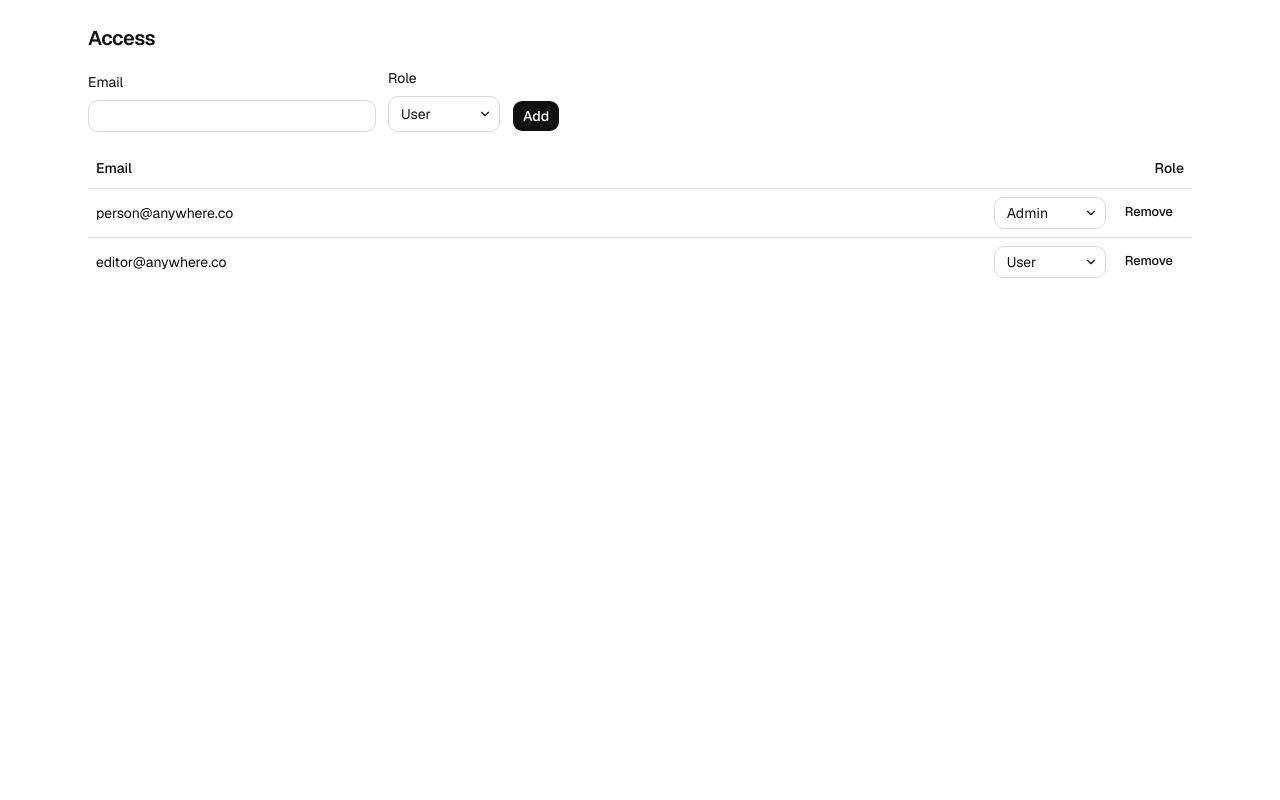
Test: access screen › asks before removing someone and does nothing on cancel
Click the button "Remove" in the row of "editor@anywhere.co": (1149, 262) [1114, 248, 1184, 276]
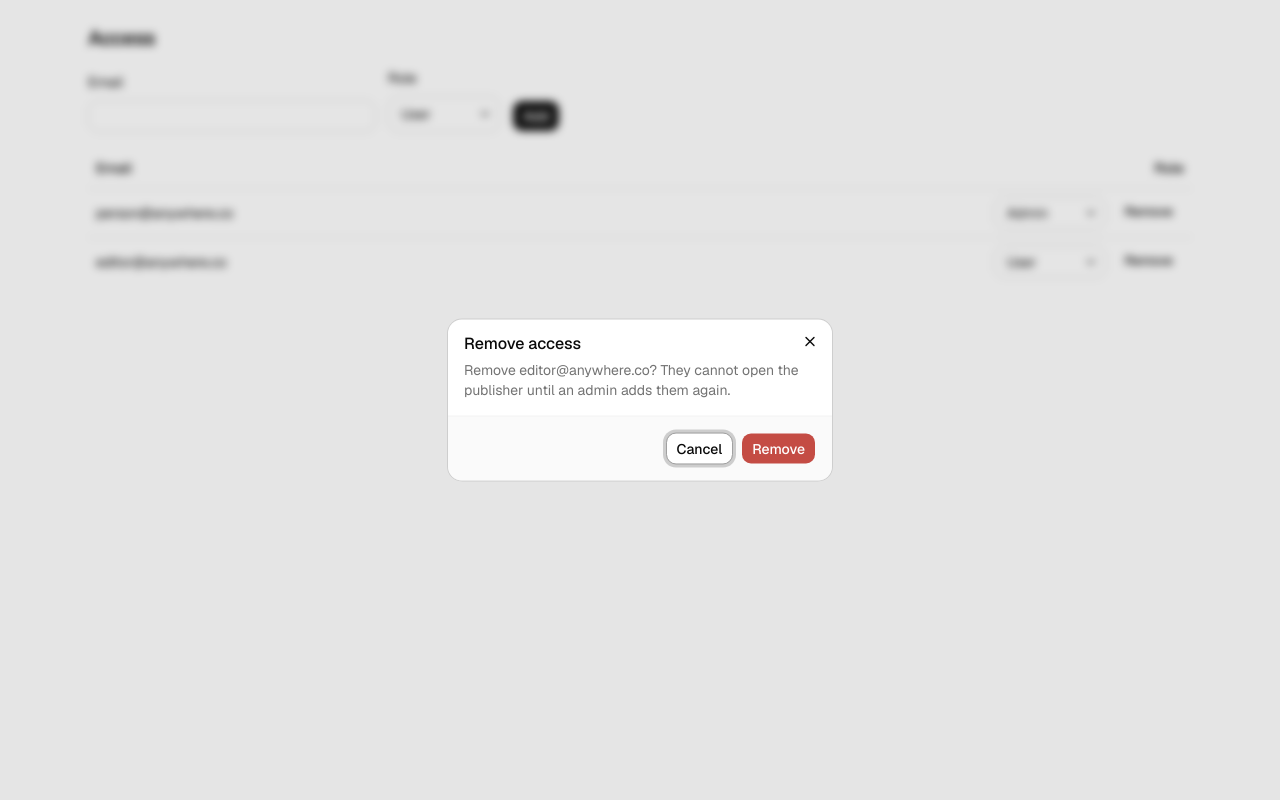
expect the dialog "Remove access" shows "editor@anywhere.co": met, box [464, 360, 799, 398]
Click the button "Cancel": (699, 448) [666, 432, 733, 464]
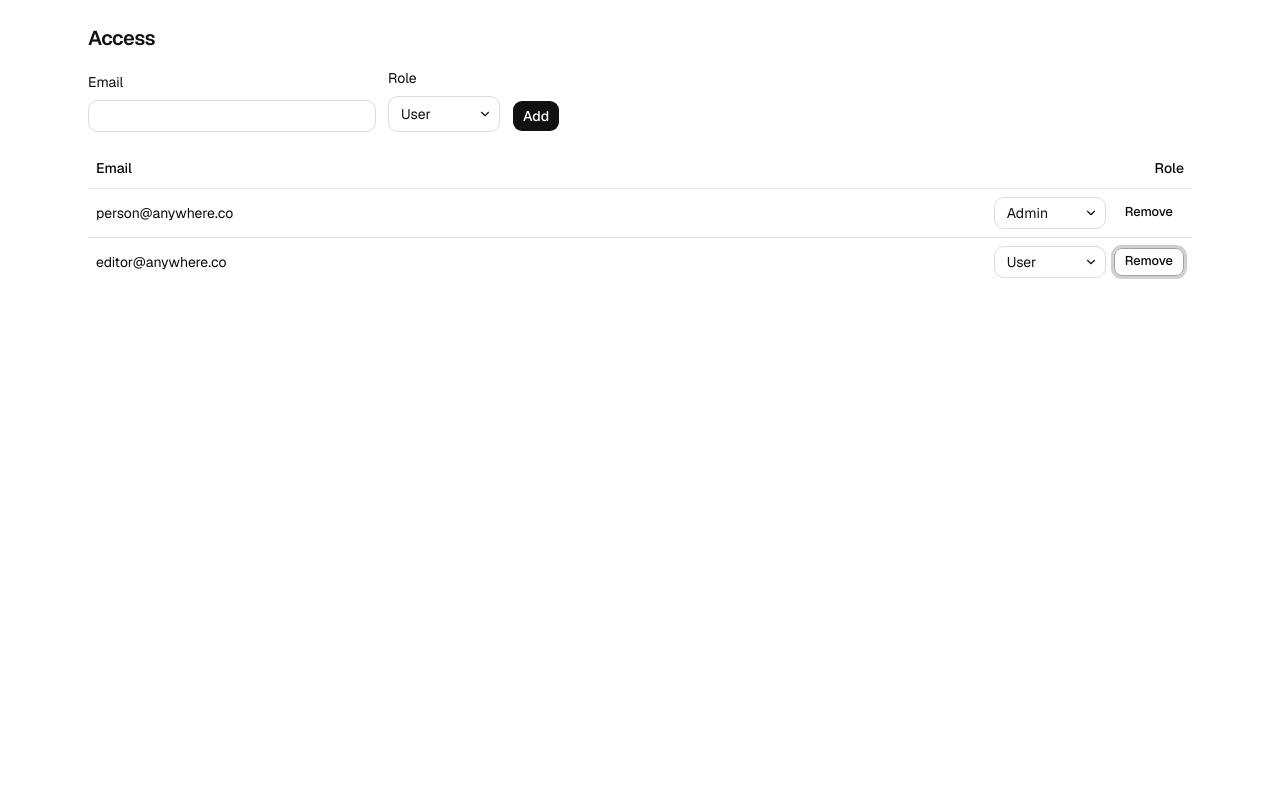
expect the cell "editor@anywhere.co" is shown: met, box [88, 237, 559, 286]
expect the heading "Remove access" is gone: met
